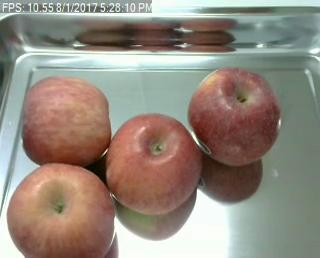apple: (6, 163, 115, 258), (106, 113, 201, 216), (188, 68, 281, 166), (22, 76, 111, 166)
